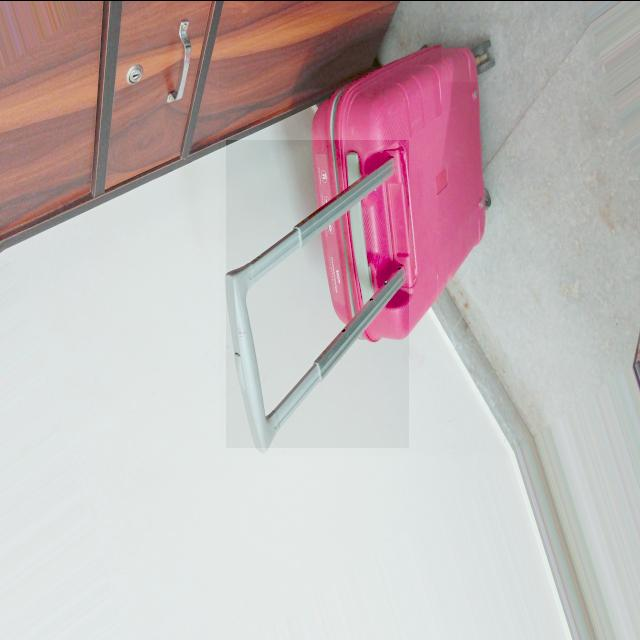Bag: (223, 27, 512, 452)
Handle: (226, 149, 409, 447)
